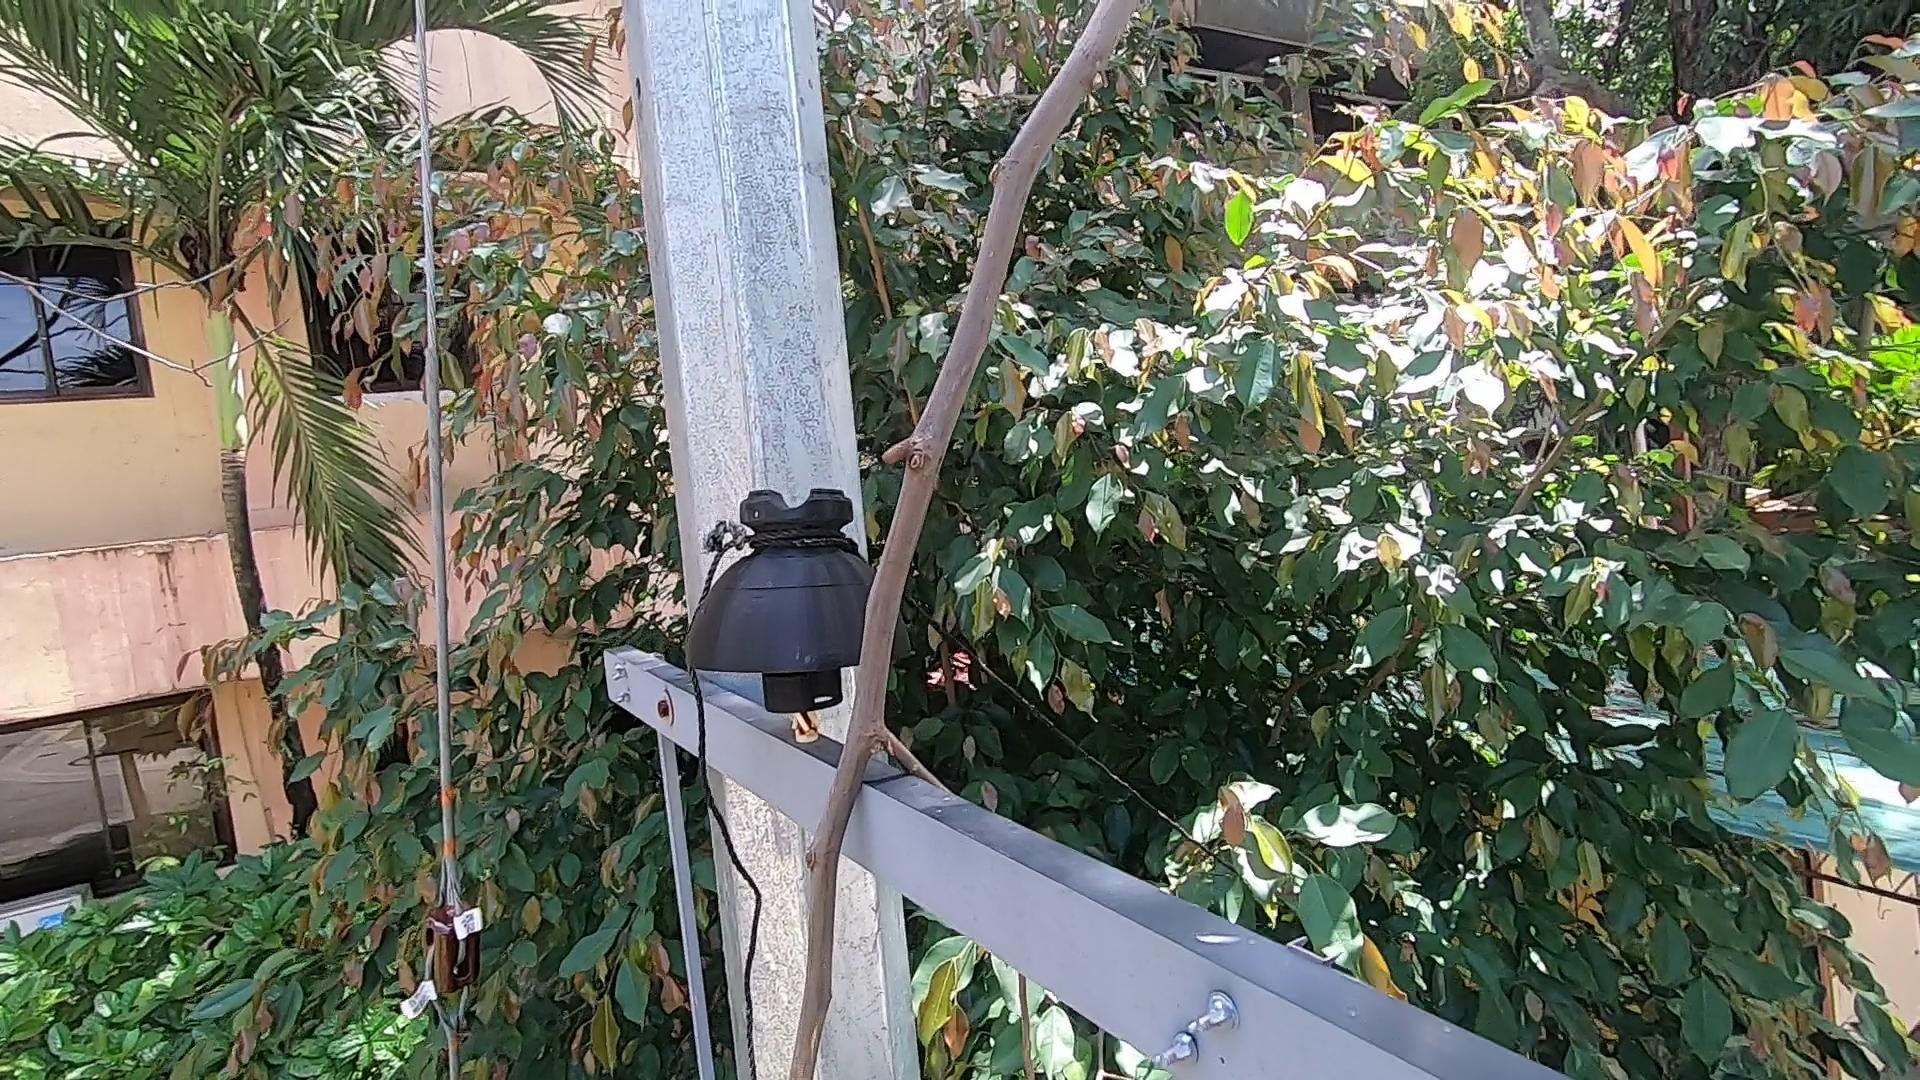tree branch: (740, 1, 1062, 1075)
